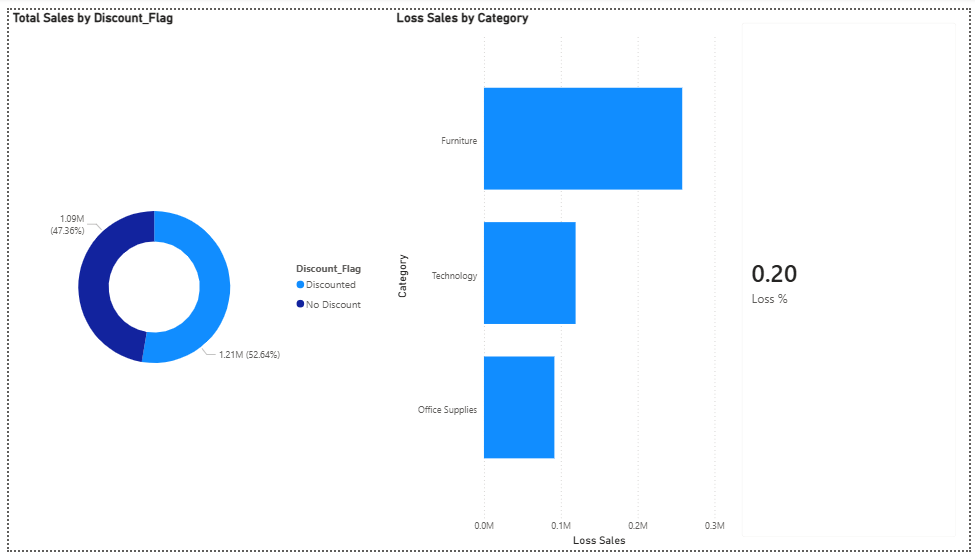

What the dashboard file says about the page in this screenshot:
{"tool":"powerbi","page":{"name":"Discount & Loss Analysis","canvas":[1280,720],"ordinal":3},"visuals":[{"type":"donutChart","fields":{"Category":["SampleSuperstore.Discount_Flag"],"Y":["Measure.Total Sales"]},"box":[0,0,491.7,720],"z":0},{"type":"cardVisual","fields":{"Data":["Measure.Loss %"]},"box":[960,0,320,720],"z":1000},{"type":"barChart","fields":{"Category":["SampleSuperstore.Category"],"Y":["Measure.Loss Sales"]},"box":[511.7,0,448.3,720],"z":1001}]}

Visuals, with their boxes in screenshot pixels (x1, y1, x2, y2), scaled from the page's 1280x720 canvas onto the 975x556 screenshot:
donutChart - SampleSuperstore.Discount_Flag x Measure.Total Sales: [left=0, top=0, right=375, bottom=555]
cardVisual - Measure.Loss %: [left=731, top=0, right=974, bottom=555]
barChart - SampleSuperstore.Category x Measure.Loss Sales: [left=390, top=0, right=731, bottom=555]
